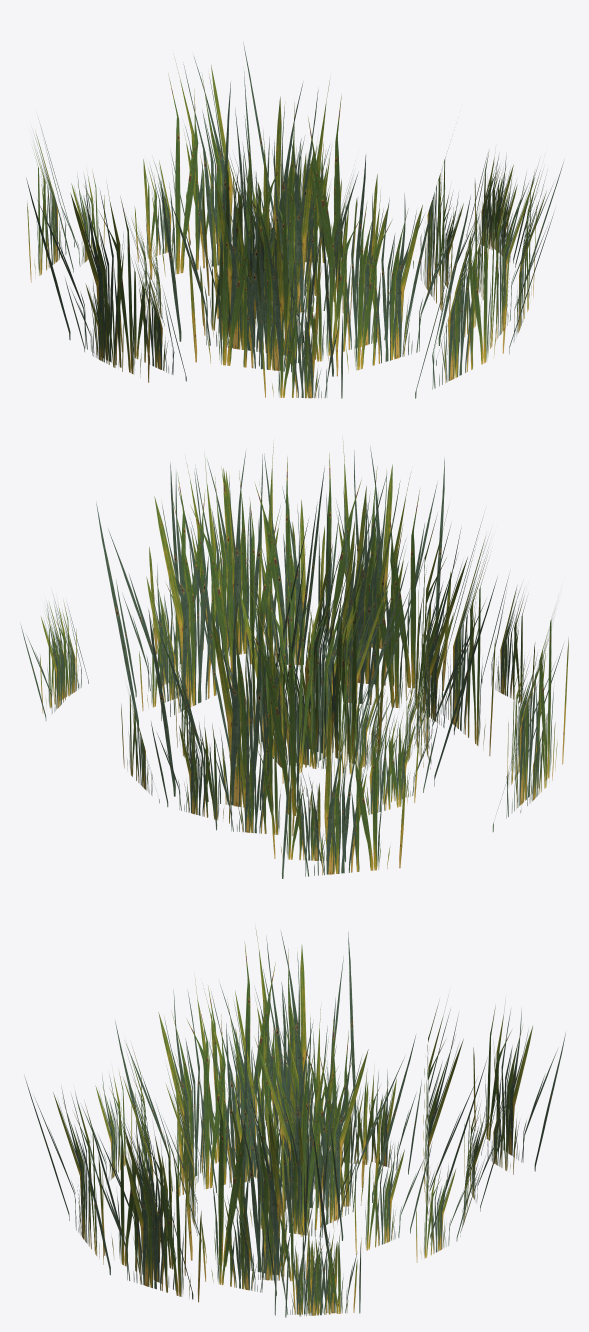
Rendered from grass_plant.glb.
3 renders of one model, top to bottom at view 1: azimuth 30°, elevation 25°; view 2: azimuth 150°, elevation 25°; view 3: azimuth 270°, elevation 25°, orthographic. The views are drawn at different scales.
Visible parts, largest first — view 1: Grass; view 2: Grass; view 3: Grass.
Boxes of the visible parts, box(x1,y1,x2,y2) form: Grass: box(26, 43, 563, 398); Grass: box(20, 441, 568, 878); Grass: box(24, 928, 565, 1317).
Size of the model in its own units: 0.5698 by 0.2489 by 0.5773.
Materials: 1 (1 with a texture image).
